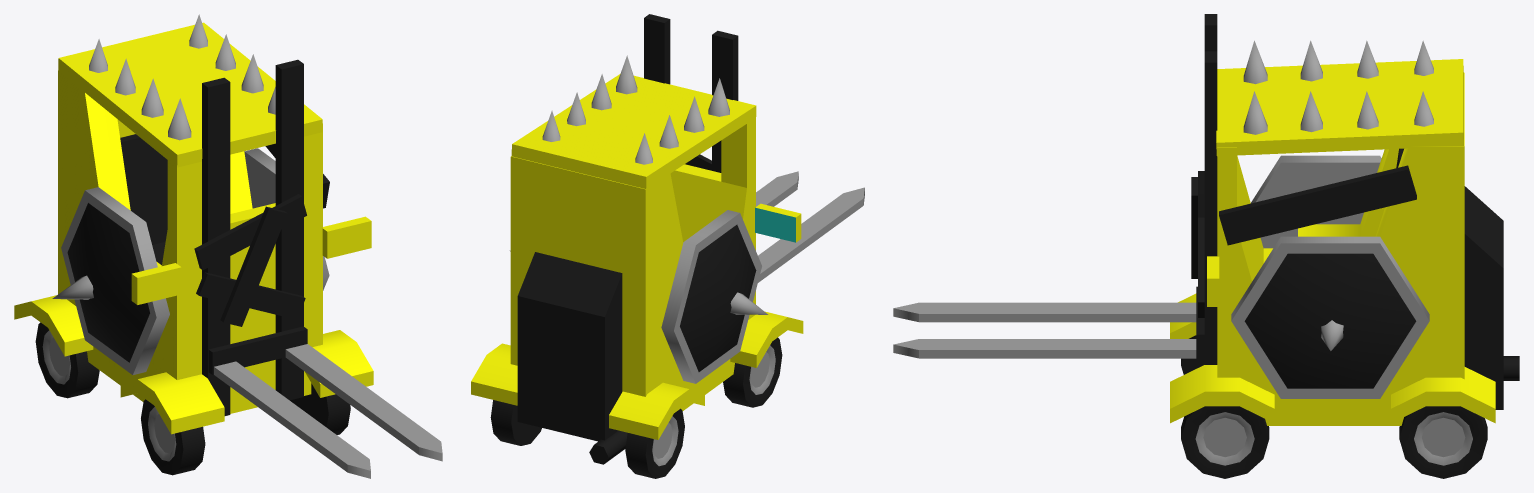
The model's file is M_Vehicle_Transpalette_B.FBX.
The picture shows the model from 3 angles, left to right: view 1: azimuth 30°, elevation 25°; view 2: azimuth 150°, elevation 25°; view 3: azimuth 270°, elevation 25°; orthographic projection. The views are drawn at different scales.
Visible parts, largest first — view 1: Vehicle_Transpalette_B; view 2: Vehicle_Transpalette_B; view 3: Vehicle_Transpalette_B.
Part boxes in pixels (<box>): Vehicle_Transpalette_B: <box>14,14,442,478</box>; Vehicle_Transpalette_B: <box>471,14,864,478</box>; Vehicle_Transpalette_B: <box>893,14,1519,478</box>.
Bounding box in the file's own units: 245 × 319 × 455.
